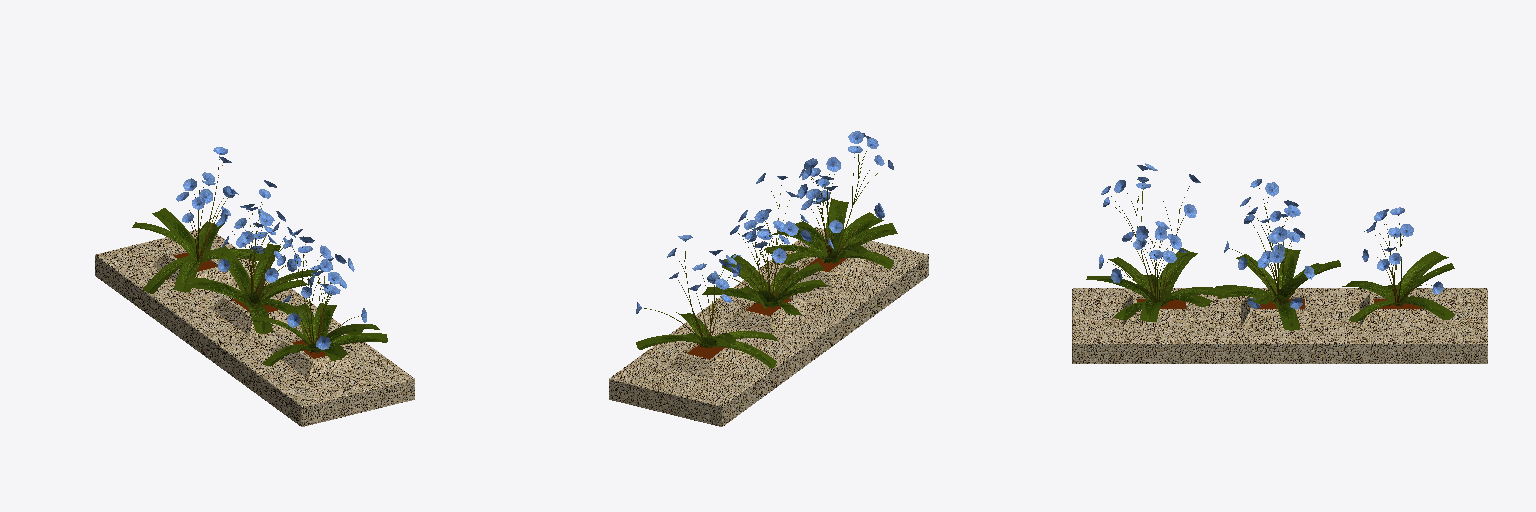
3 renders of one model, left to right at view 1: azimuth 30°, elevation 25°; view 2: azimuth 150°, elevation 25°; view 3: azimuth 270°, elevation 25°, orthographic.
Visible parts, largest first — view 1: Object_Stone_466_x_307_px_Masonry.jpg, Object_VL1X4_001.jpg, Object_F1X1_003.jpg, Object_stalk_002_gradient.jpg; view 2: Object_Stone_466_x_307_px_Masonry.jpg, Object_VL1X4_001.jpg, Object_F1X1_003.jpg, Object_stalk_002_gradient.jpg, Object_color_0.423520-0.185120-0.025120.jpg; view 3: Object_Stone_466_x_307_px_Masonry.jpg, Object_VL1X4_001.jpg, Object_F1X1_003.jpg, Object_stalk_002_gradient.jpg.
Part boxes in pixels (x1,y1,x2,y2): Object_Stone_466_x_307_px_Masonry.jpg: (95,230,414,426); Object_VL1X4_001.jpg: (132,208,387,365); Object_F1X1_003.jpg: (176,147,366,349); Object_stalk_002_gradient.jpg: (189,159,358,352); Object_Stone_466_x_307_px_Masonry.jpg: (609,227,928,426); Object_VL1X4_001.jpg: (636,199,897,368); Object_F1X1_003.jpg: (636,131,893,313); Object_stalk_002_gradient.jpg: (644,147,877,341); Object_color_0.423520-0.185120-0.025120.jpg: (687,258,846,358); Object_Stone_466_x_307_px_Masonry.jpg: (1072,288,1487,363); Object_VL1X4_001.jpg: (1086,248,1454,330); Object_F1X1_003.jpg: (1099,163,1443,308); Object_stalk_002_gradient.jpg: (1107,180,1431,305).
Bounding box in the file's own units: 0.8186 × 1.08 × 2.5.
6 materials, 5 textured.